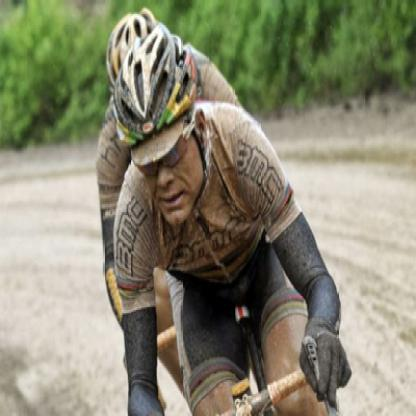Helmet: (118, 27, 213, 227)
